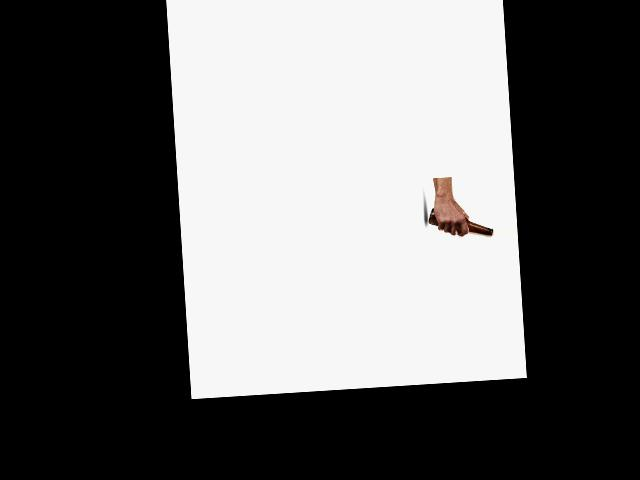beer: (426, 204, 492, 240)
